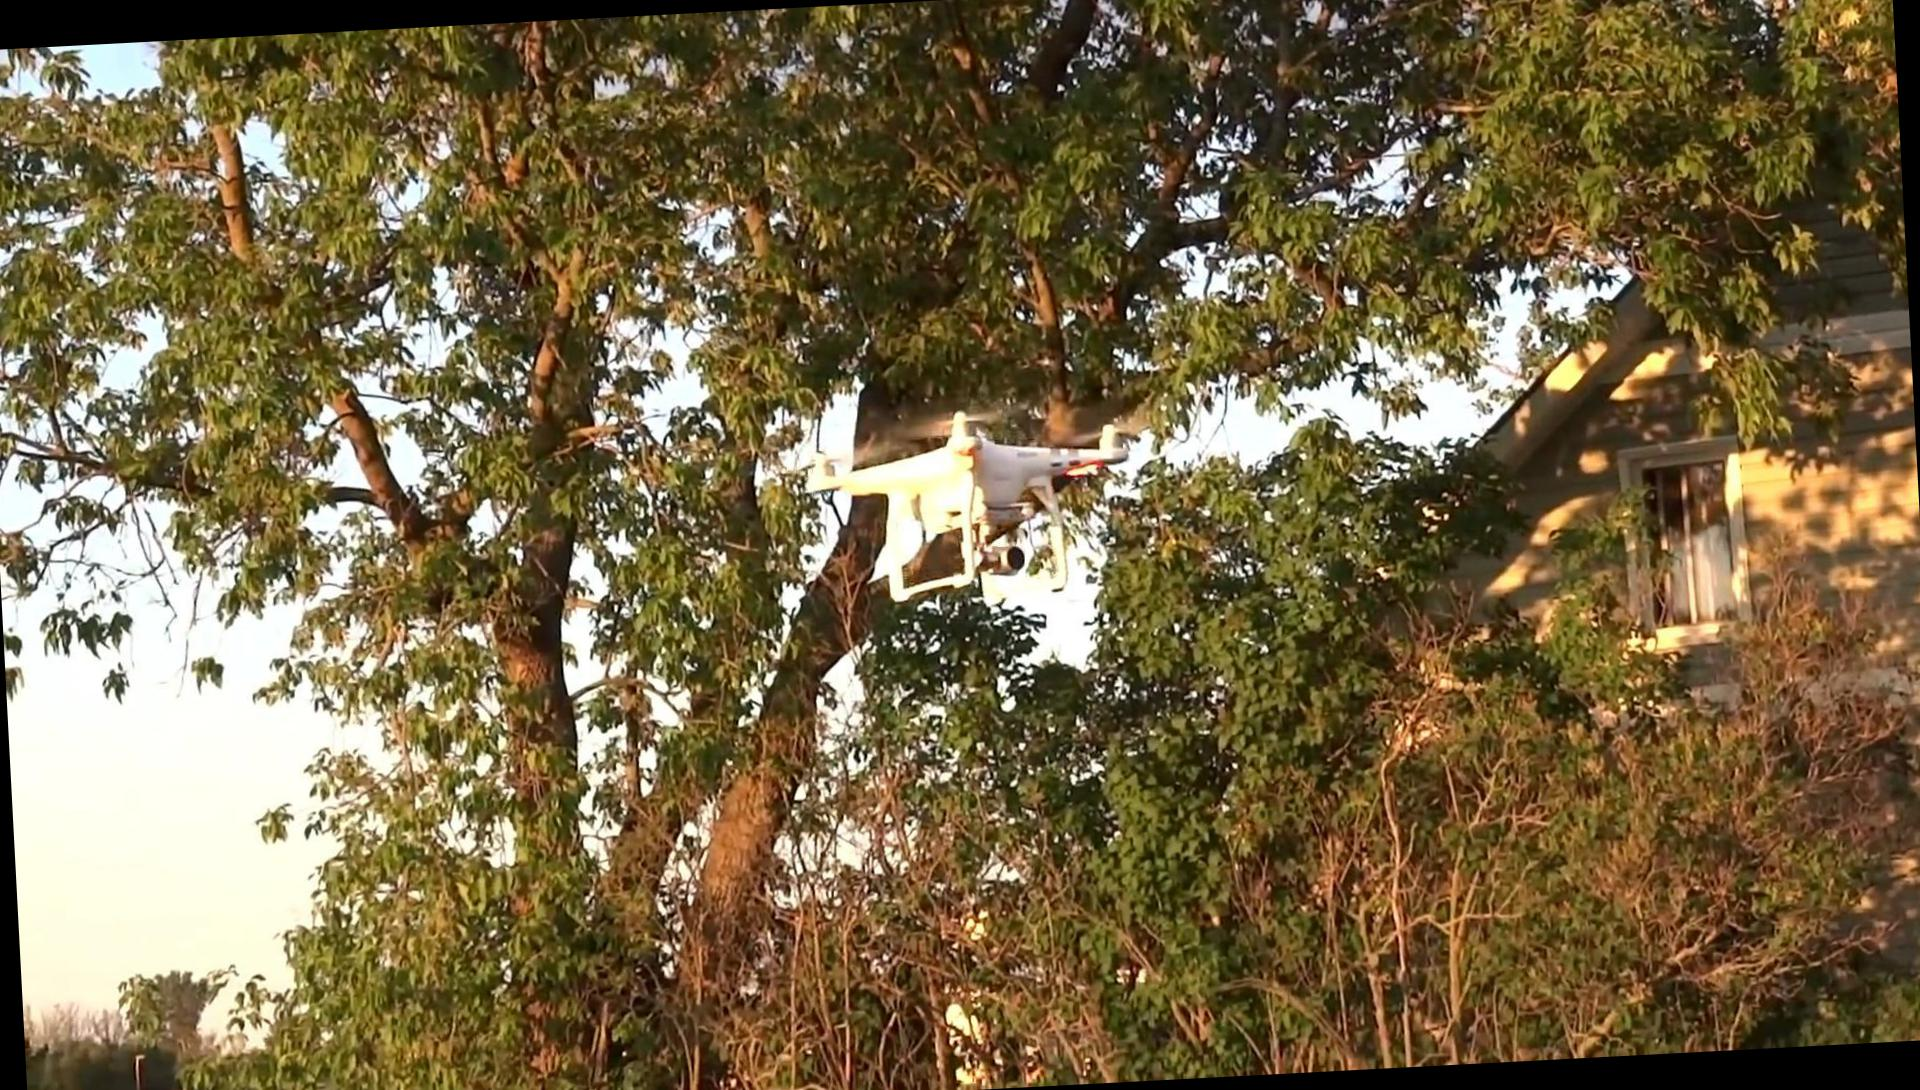drone: (785, 397, 1153, 612)
